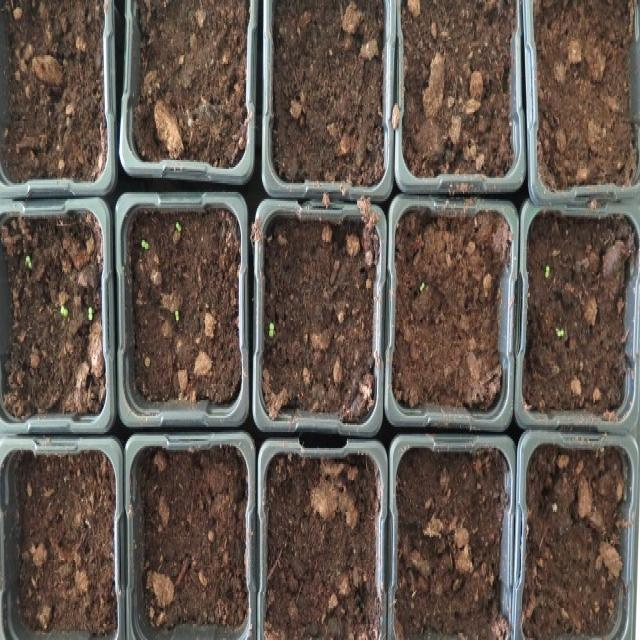weed: (265, 318, 276, 336), (55, 304, 70, 315), (541, 262, 550, 278), (85, 304, 94, 320), (416, 277, 426, 290), (137, 237, 150, 247), (173, 217, 182, 231), (23, 252, 32, 266), (172, 306, 180, 320)
